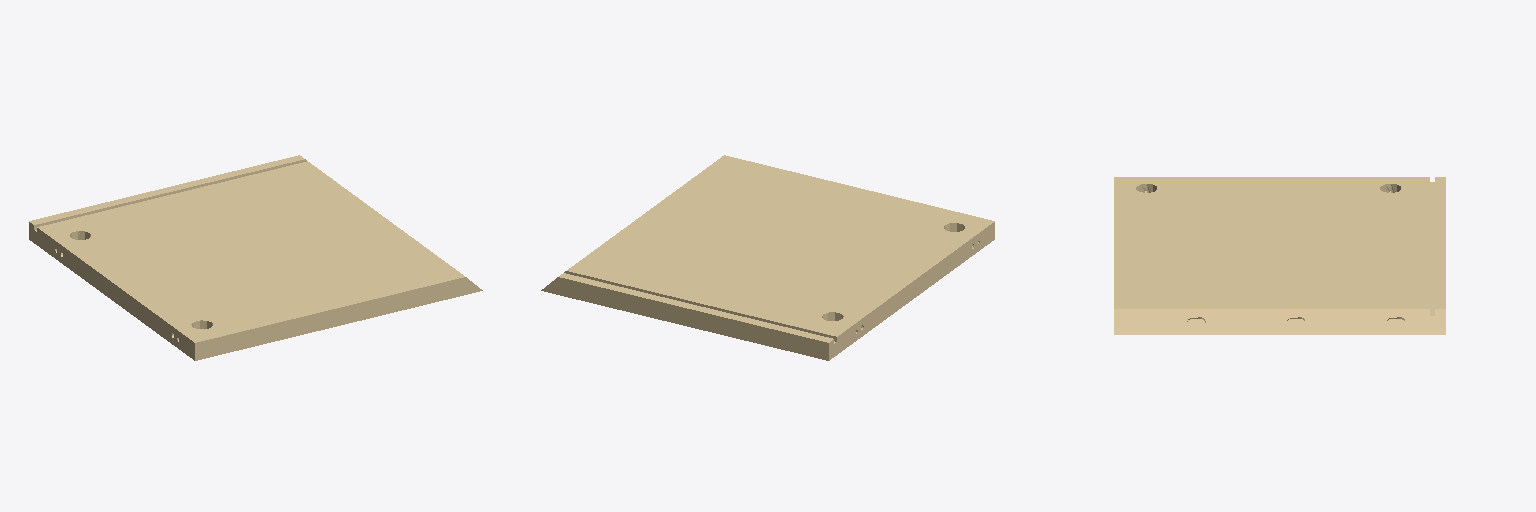
File: side_left.obj
3 renders of one model, left to right at view 1: azimuth 30°, elevation 25°; view 2: azimuth 150°, elevation 25°; view 3: azimuth 270°, elevation 25°, orthographic.
Visible parts, largest first — view 1: 1; view 2: 1; view 3: 1.
Part boxes in pixels (x1,y1,x2,y2): 1: (29, 155, 482, 360); 1: (541, 155, 994, 360); 1: (1114, 177, 1445, 334).
Bounding box in the file's own units: 300 × 18 × 300.